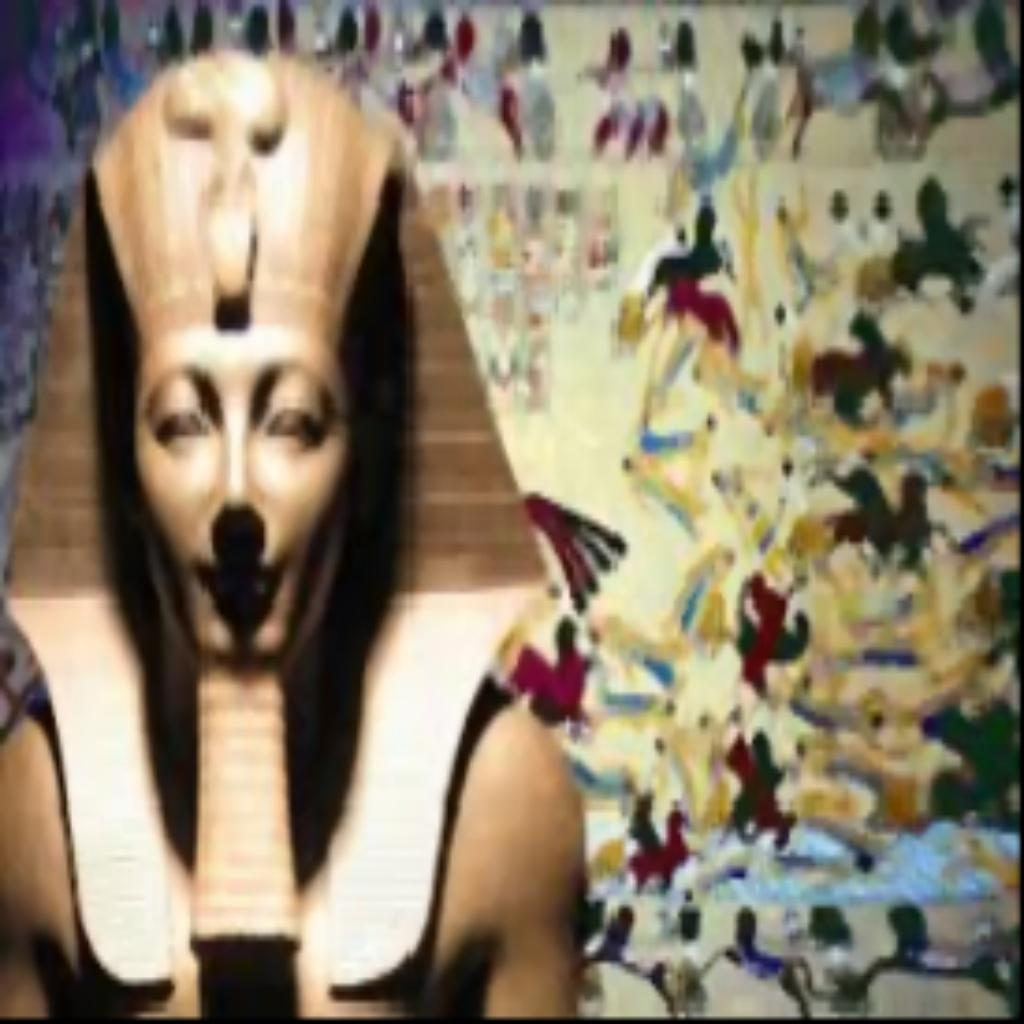King Thutmose III: (0, 34, 596, 1012)
